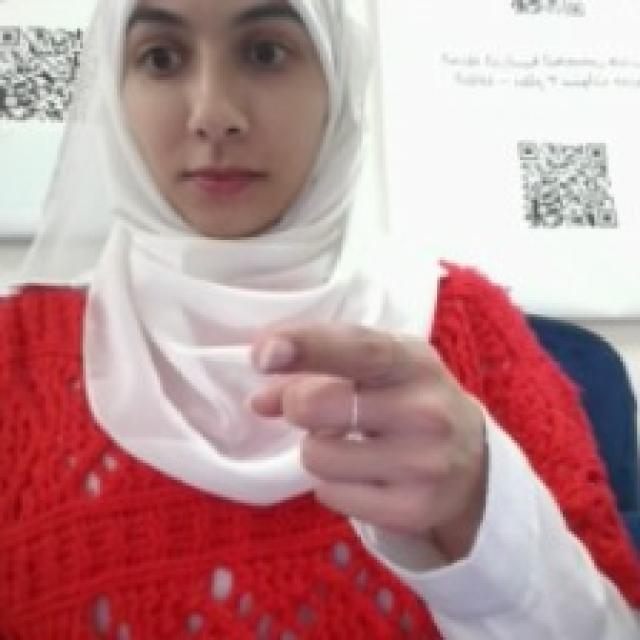you: (243, 308, 488, 543)
